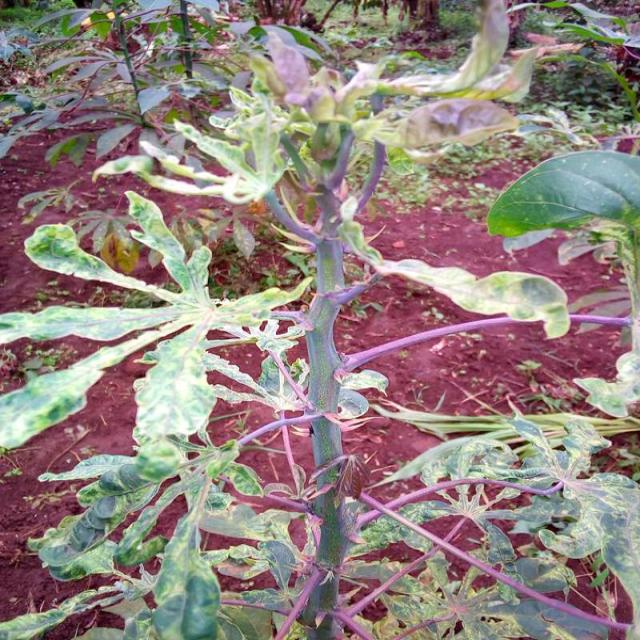cassava leaf: (1, 2, 638, 638), (486, 147, 639, 239)
